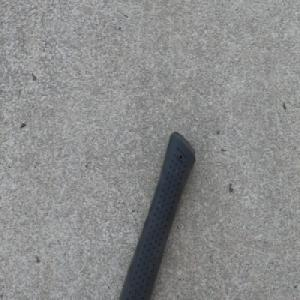Hammer: (117, 128, 198, 300)
